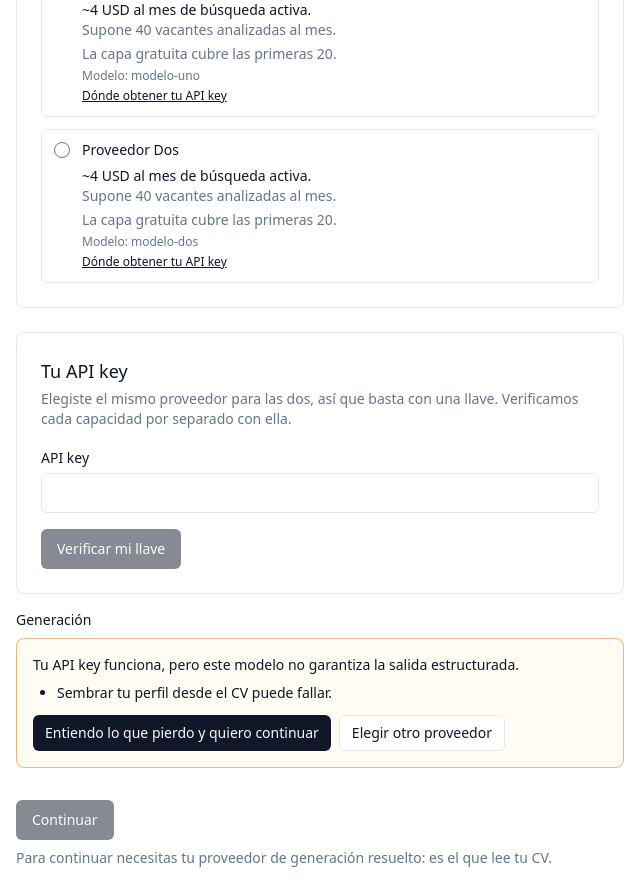
Test: el gate de FR-010 › sin el acuse de degradación no se puede avanzar; con él, sí (FR-007.3, SC-016)
(page scrolled)
Check: the list item "Sembrar tu perfil desde el CV puede fallar." is shown, box left=57, top=683, right=332, bottom=702
Check: the button "Continuar" is disabled, box left=16, top=800, right=114, bottom=840
Click the button "Entiendo lo que pierdo y quiero continuar". click: (182, 733)
box: left=33, top=715, right=331, bottom=751
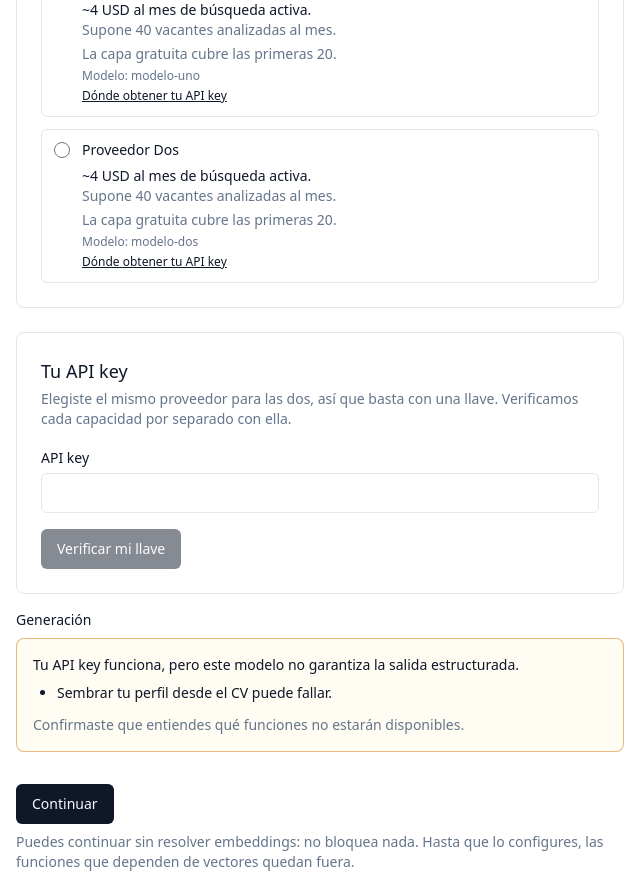
Check: the button "Continuar" is enabled, box left=16, top=784, right=114, bottom=824
